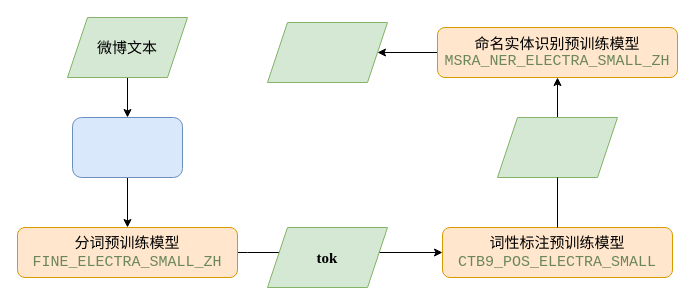
Some shapes in this 695 by 305 pixel diagram are drawn without their labels. Each missing label, with the centre of its shape:
ner: (327,52)
pos: (557,147)
句子分割: (127,147)
